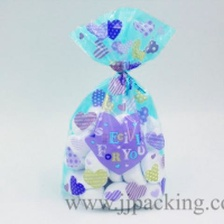snack: (52, 0, 178, 216)
